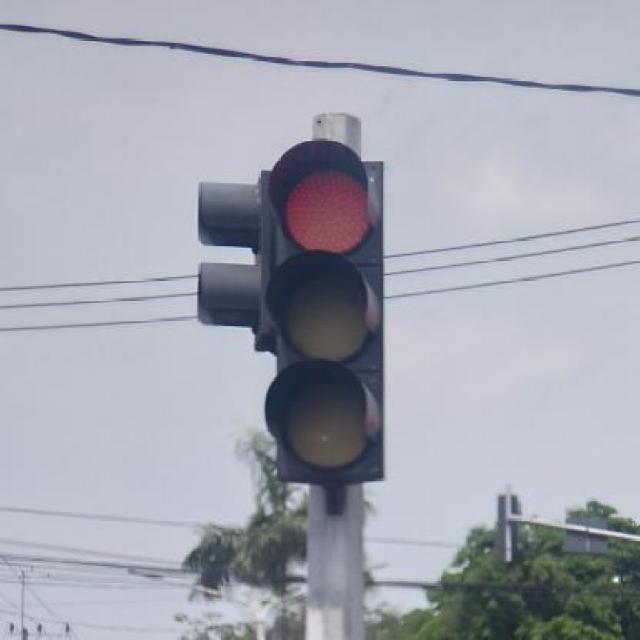traffic light: (265, 158, 385, 480)
